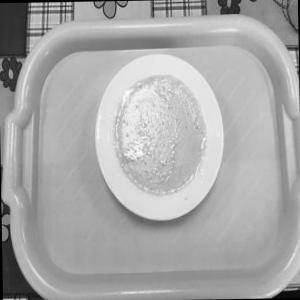porridge: (98, 58, 219, 207)
